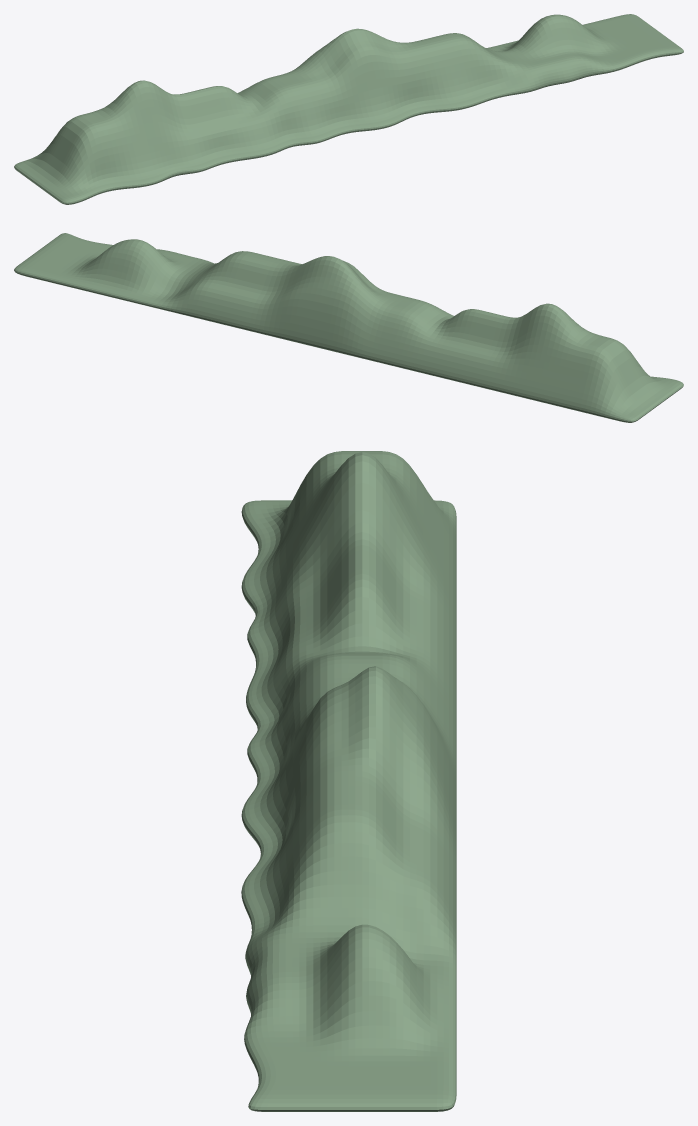
The picture shows the model from 3 angles, top to bottom: view 1: azimuth 30°, elevation 25°; view 2: azimuth 150°, elevation 25°; view 3: azimuth 270°, elevation 25°; orthographic projection. The views are drawn at different scales.
Visible parts, largest first — view 1: 立方体; view 2: 立方体; view 3: 立方体.
Boxes of the visible parts, x1=… form: 立方体: x1=14, y1=14, x2=683, y2=204; 立方体: x1=14, y1=233, x2=683, y2=422; 立方体: x1=241, y1=451, x2=456, y2=1111.
Size of the model in its own units: 646 by 78.21 by 96.65.
